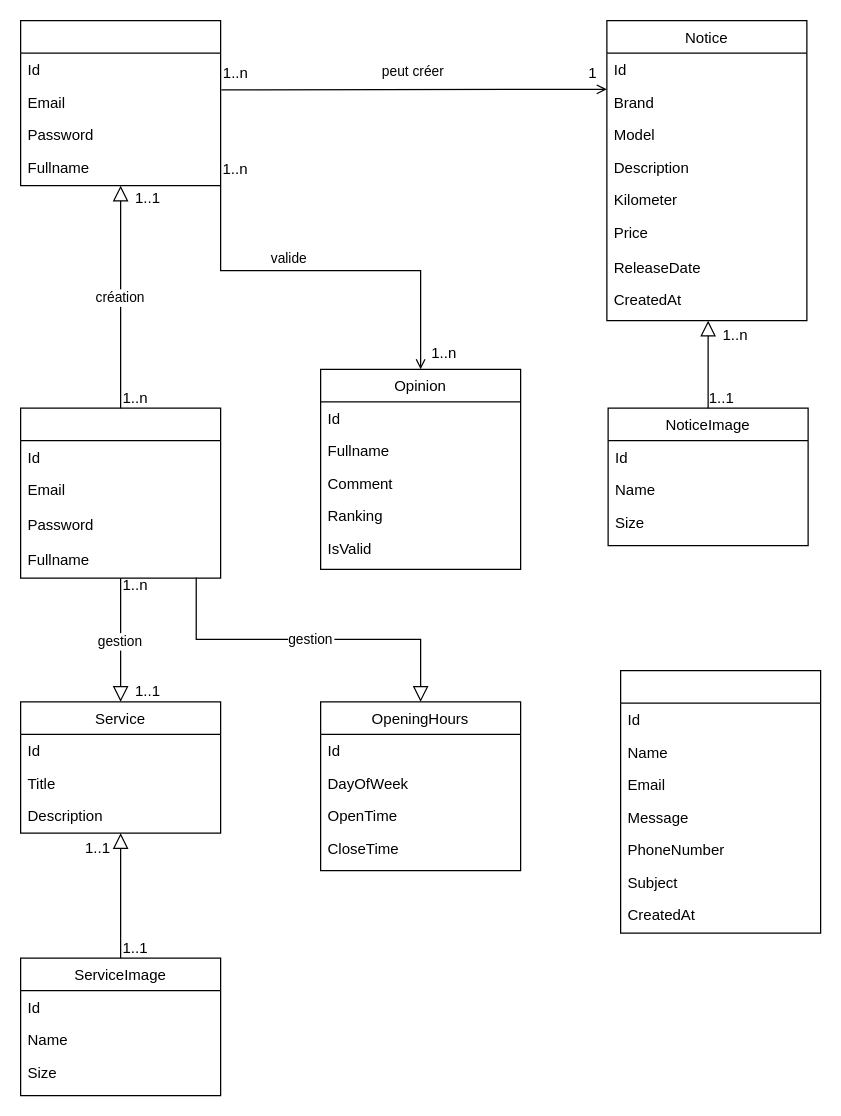
Some shapes in this 841 by 1116 pixel diagram are drawn without their labels. The box of each missing label's shape, as (x1, y1, x2, y2) in pixels:
Admin: (19, 407, 221, 578)
Contact: (619, 669, 821, 933)
Seller: (19, 19, 221, 186)
